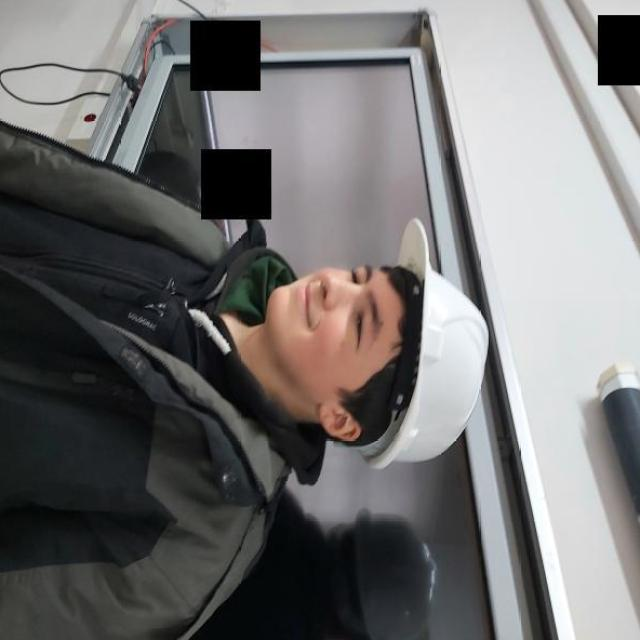helmet: (354, 216, 490, 470)
